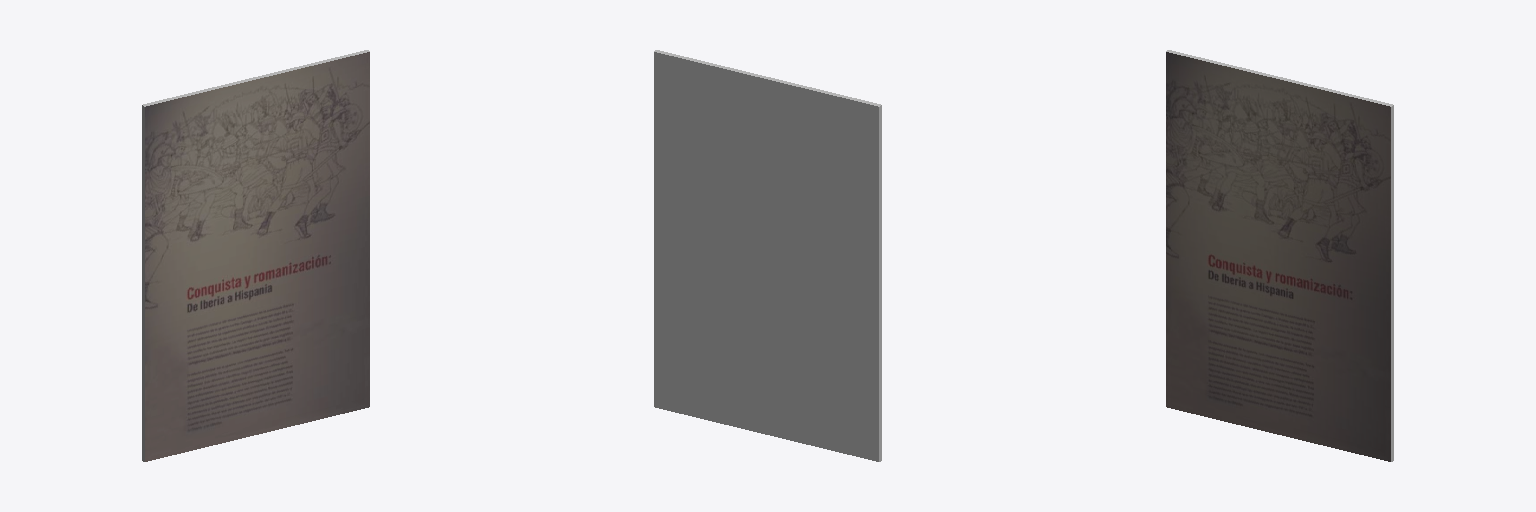
3 renders of one model, left to right at view 1: azimuth 30°, elevation 25°; view 2: azimuth 150°, elevation 25°; view 3: azimuth 330°, elevation 25°, orthographic.
Parts seen in each view (by area): view 1: SketchUp.001_ID10, SketchUp_ID2; view 2: SketchUp_ID2; view 3: SketchUp.001_ID10, SketchUp_ID2.
Boxes of the visible parts, <box> form: SketchUp.001_ID10: <box>145,52,369,461</box>; SketchUp_ID2: <box>142,50,369,461</box>; SketchUp_ID2: <box>654,50,881,461</box>; SketchUp.001_ID10: <box>1166,52,1390,461</box>; SketchUp_ID2: <box>1166,50,1393,461</box>.
Bounding box in the file's own units: 188 × 283 × 3.94.
2 materials, 1 textured.